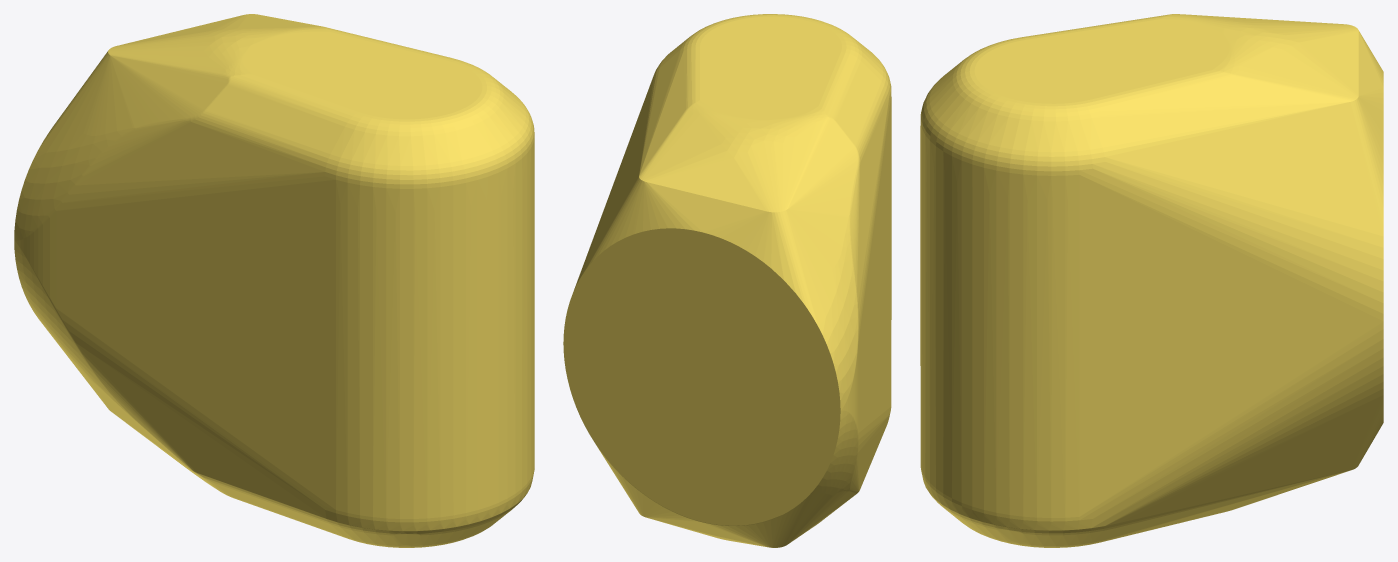
3 views of the same model, side by side, from view 1: azimuth 30°, elevation 25°; view 2: azimuth 150°, elevation 25°; view 3: azimuth 270°, elevation 25° (orthographic). The views are drawn at different scales.
Parts seen in each view (by area): view 1: link_1.stl; view 2: link_1.stl; view 3: link_1.stl.
Part boxes in pixels (x1,y1,x2,y2): link_1.stl: (14, 14, 534, 547); link_1.stl: (563, 14, 891, 547); link_1.stl: (920, 14, 1383, 547).
Bounding box in the file's own units: 0.199 × 0.235 × 0.224.
